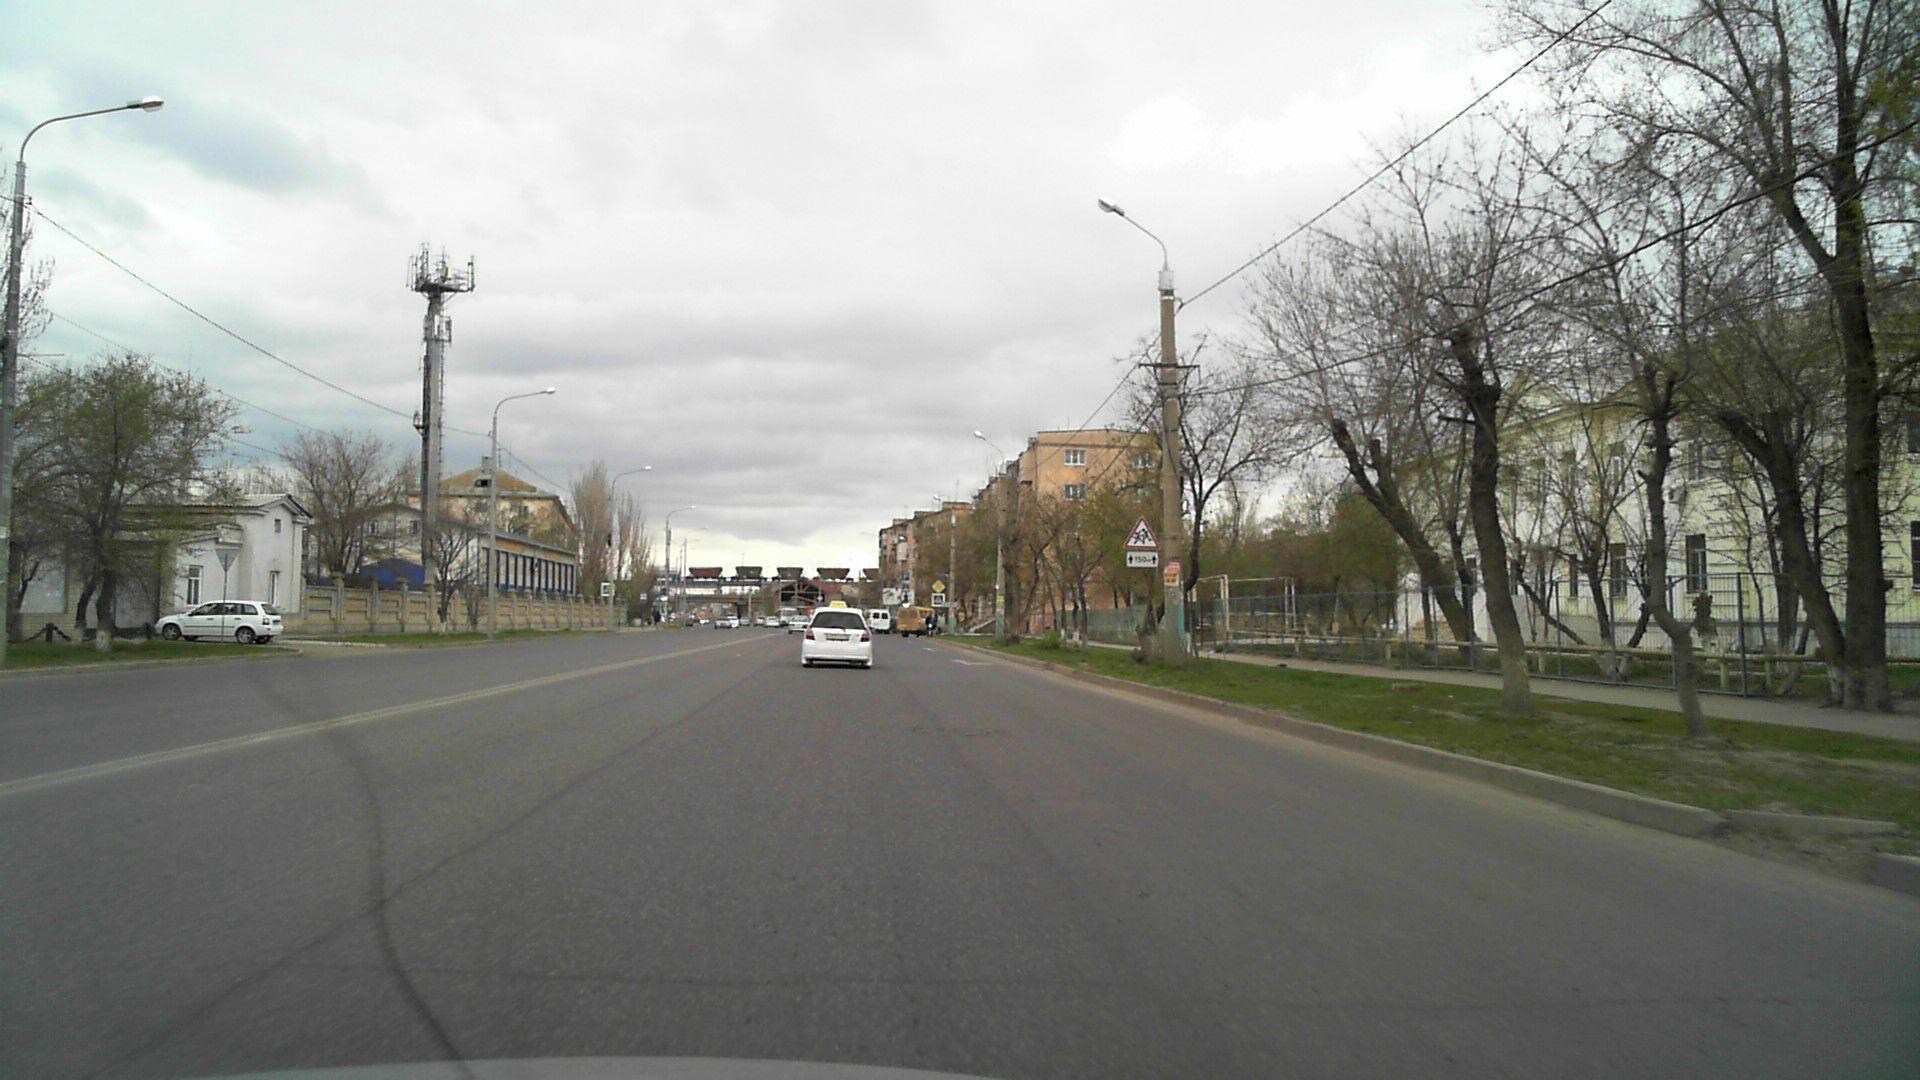1_23: (1122, 516, 1160, 550)
2_1: (930, 579, 947, 592)
5_16: (640, 592, 647, 603)
5_19_1: (934, 596, 943, 605)
5_19_2: (601, 584, 612, 593)
8_2_1: (1125, 551, 1160, 568)
